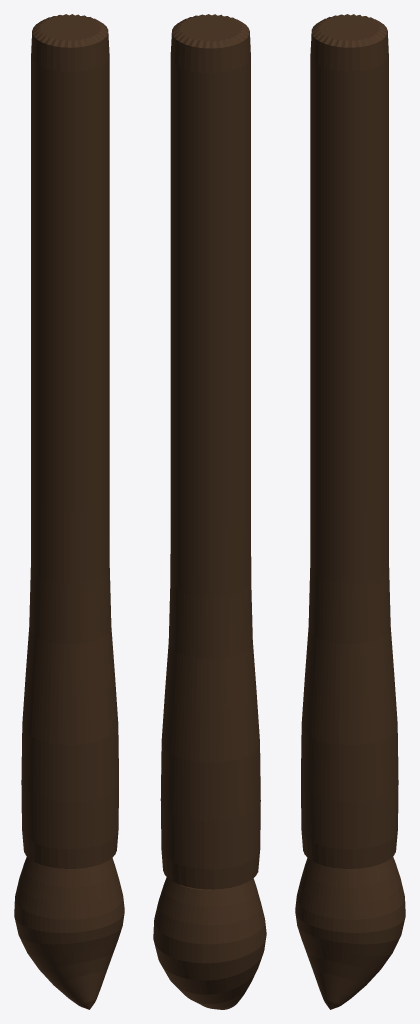
File: Brush_V1.fbx
3 renders of one model, left to right at view 1: azimuth 30°, elevation 25°; view 2: azimuth 150°, elevation 25°; view 3: azimuth 330°, elevation 25°, orthographic. The views are drawn at different scales.
Visible parts, largest first — view 1: Cylinder.006; view 2: Cylinder.006; view 3: Cylinder.006.
Part boxes in pixels (x1,y1,x2,y2): Cylinder.006: (14,14,124,1009); Cylinder.006: (153,14,266,1009); Cylinder.006: (295,14,405,1009).
Bounding box in the file's own units: 2.45 × 23.56 × 2.42.
